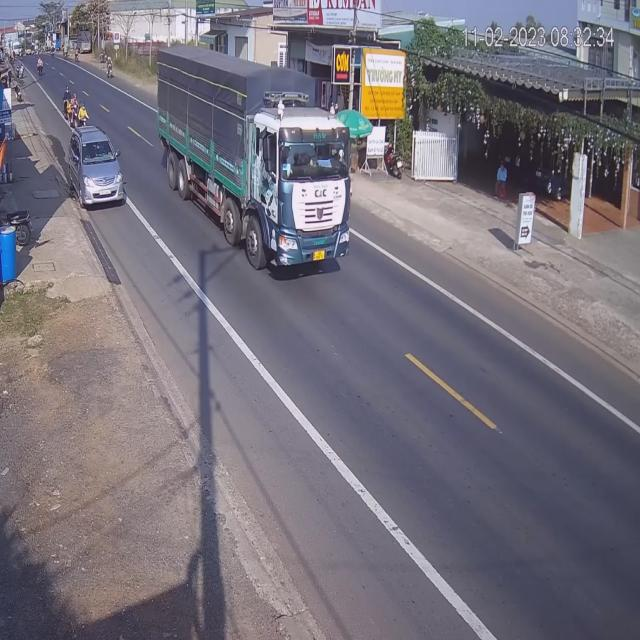car: (70, 128, 124, 211)
motorbike: (66, 90, 76, 124), (75, 102, 88, 127)
truck: (158, 52, 355, 270)
